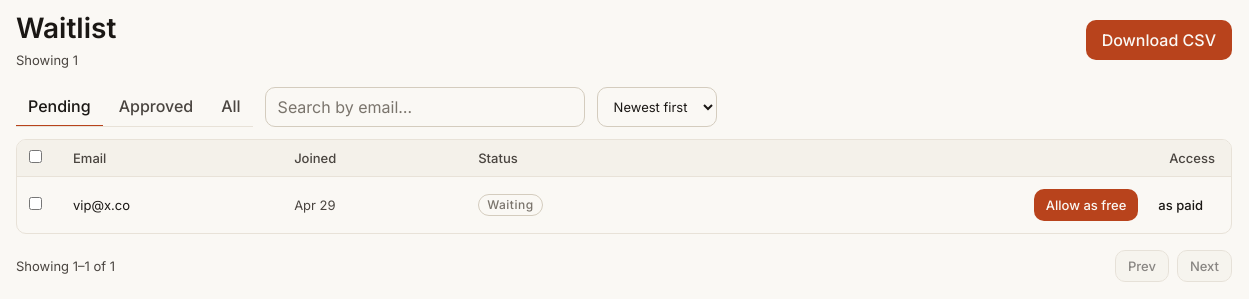
Test: /admin/waitlist — WaitlistView › clicking 'as paid' approves with tier='paid' and shows 'Allowed · Paid'
What coordinates should you click on to do the following:
click the button "as paid"
I would click on:
 (1181, 205)
Its box is [1146,189,1215,221].
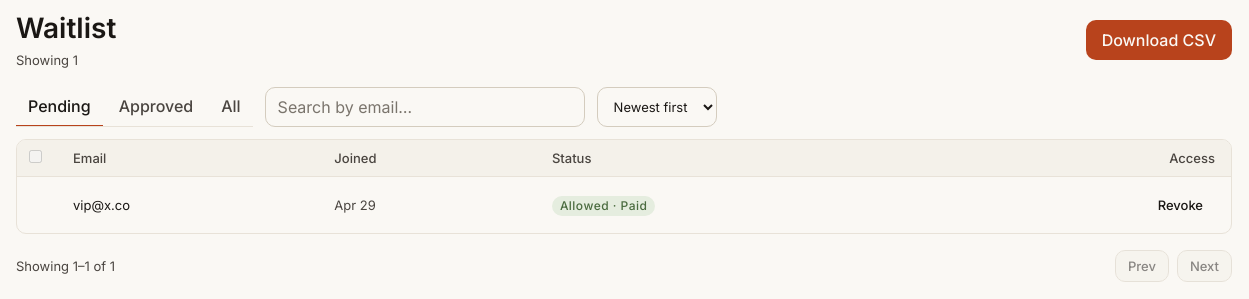
Expected: the text "Allowed · Paid" is shown, [552,196,655,216]
